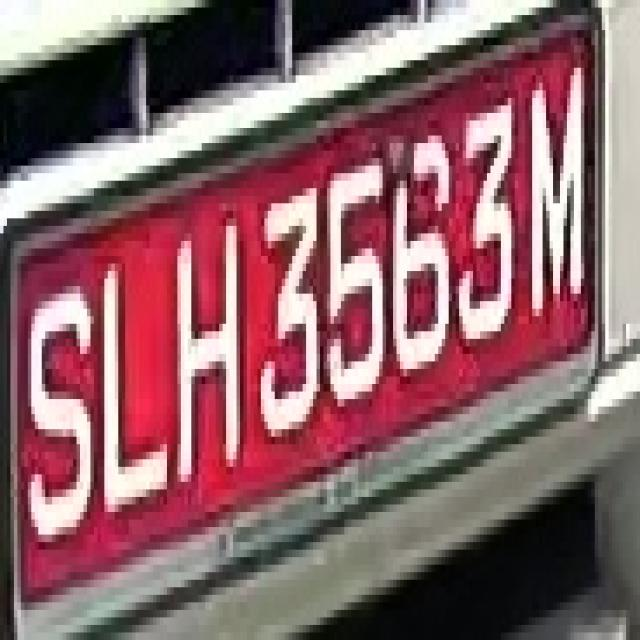3: (247, 180, 334, 452), (452, 98, 522, 361)
5: (324, 151, 396, 429)
6: (386, 105, 459, 384)
H: (167, 196, 250, 497)
L: (98, 233, 170, 534)
M: (525, 60, 598, 324)
S: (10, 264, 104, 557)
